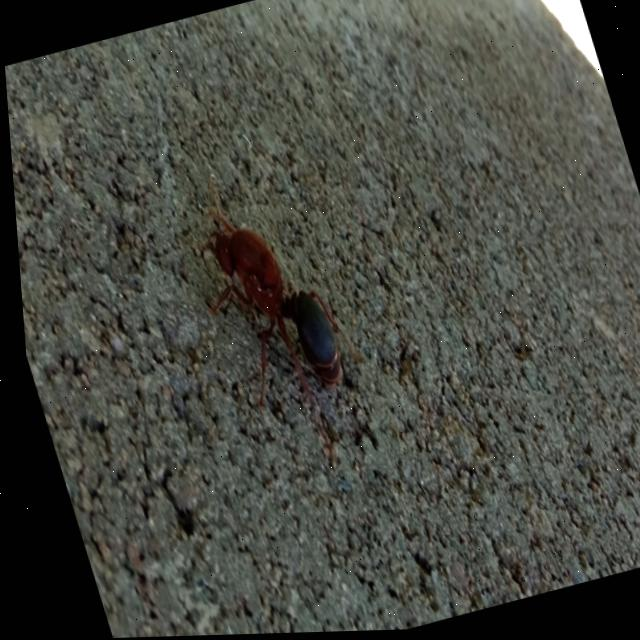Alive-Female-Dealate: (168, 168, 368, 423)
